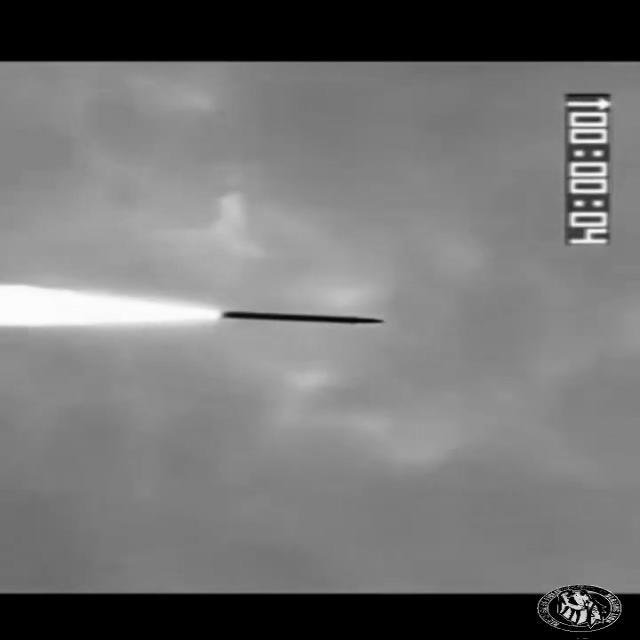Missile: (227, 306, 393, 328)
